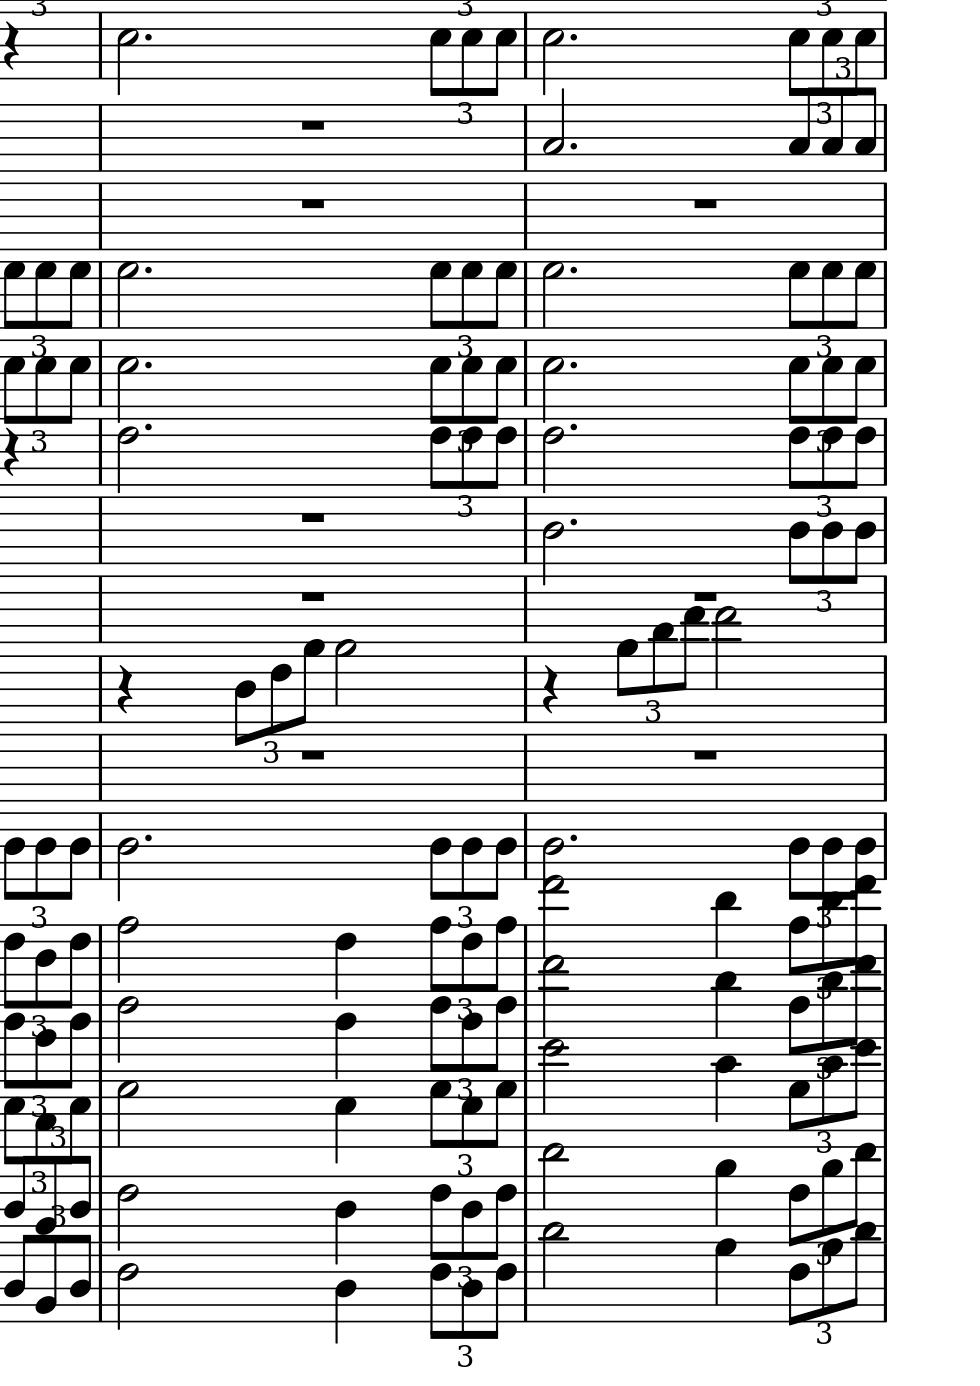2_5: (540, 10, 565, 93), (113, 8, 138, 95)
2_7: (113, 259, 140, 331), (540, 259, 565, 330)
3: (813, 334, 833, 358), (30, 905, 47, 931), (813, 494, 833, 517), (456, 905, 473, 930), (816, 587, 832, 614), (815, 1, 834, 18)
8_5: (490, 10, 517, 97), (427, 10, 452, 97), (459, 10, 483, 97)
8_7: (62, 261, 90, 331), (848, 259, 877, 329), (489, 260, 517, 330), (33, 260, 57, 330), (459, 260, 483, 330), (820, 260, 843, 330), (428, 259, 451, 330)
Rests1: (296, 508, 330, 528), (297, 585, 329, 606), (690, 745, 722, 766), (297, 193, 328, 213), (297, 116, 329, 135), (690, 194, 720, 213), (298, 745, 328, 765), (692, 586, 719, 603)
Rests4: (113, 661, 136, 714), (540, 663, 562, 714), (2, 19, 22, 73), (3, 427, 23, 479)
Single_barline: (518, 1242, 538, 1320), (876, 104, 896, 172), (876, 261, 896, 329), (876, 418, 896, 486), (518, 1071, 535, 1148), (518, 1175, 536, 1247), (876, 12, 895, 80), (519, 990, 535, 1071), (876, 341, 895, 408), (876, 813, 895, 880), (876, 498, 894, 564), (877, 576, 894, 644), (877, 656, 894, 724), (877, 734, 894, 802), (877, 183, 894, 250), (518, 657, 533, 724), (518, 735, 533, 801), (519, 923, 533, 990), (518, 14, 533, 75), (518, 577, 532, 643), (878, 1253, 892, 1323), (519, 814, 533, 878), (518, 499, 532, 562), (518, 106, 532, 168), (93, 13, 107, 78), (519, 343, 533, 403), (519, 264, 533, 323), (94, 105, 107, 171), (93, 498, 106, 564), (93, 420, 106, 483), (94, 577, 106, 643), (94, 341, 107, 401), (95, 263, 107, 324), (519, 185, 531, 233), (94, 185, 106, 235)
